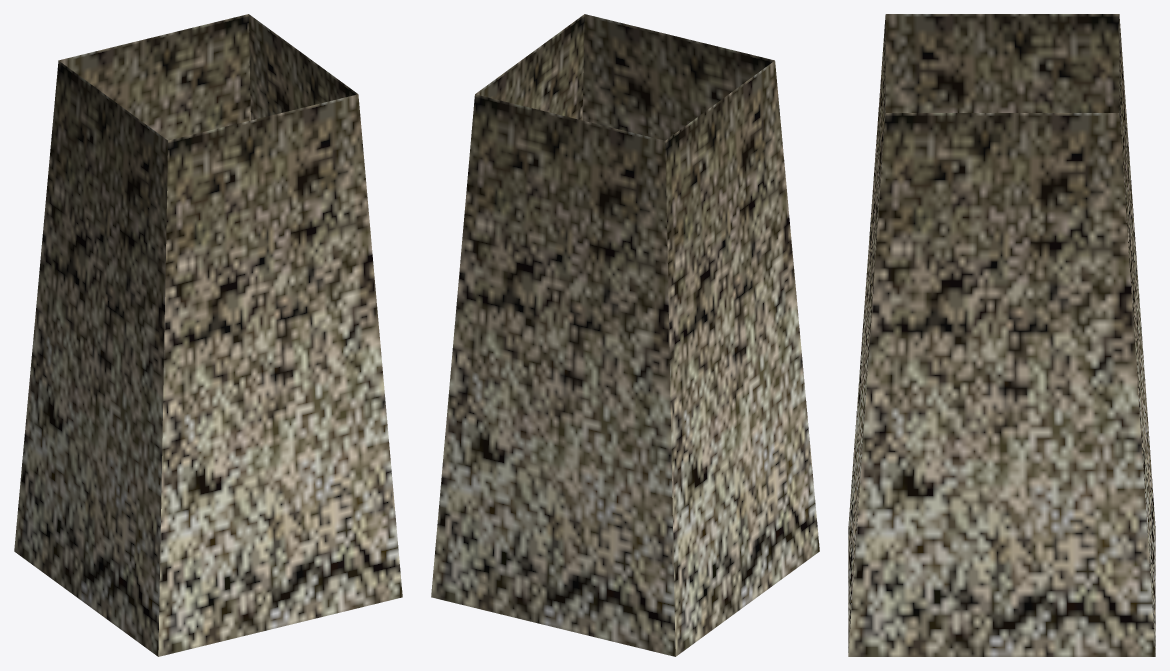
Rendered from building_e_stone_dam_stage1.glb.
3 renders of one model, left to right at view 1: azimuth 30°, elevation 25°; view 2: azimuth 150°, elevation 25°; view 3: azimuth 270°, elevation 25°, orthographic. The views are drawn at different scales.
Parts seen in each view (by area): view 1: MeshRoot; view 2: MeshRoot; view 3: MeshRoot.
Boxes of the visible parts, x1,y1,x2,y2 form: MeshRoot: [14, 14, 402, 656]; MeshRoot: [431, 14, 819, 656]; MeshRoot: [848, 14, 1155, 656].
Bounding box in the file's own units: 2.17 × 4.22 × 2.22.
1 material, 1 textured.
